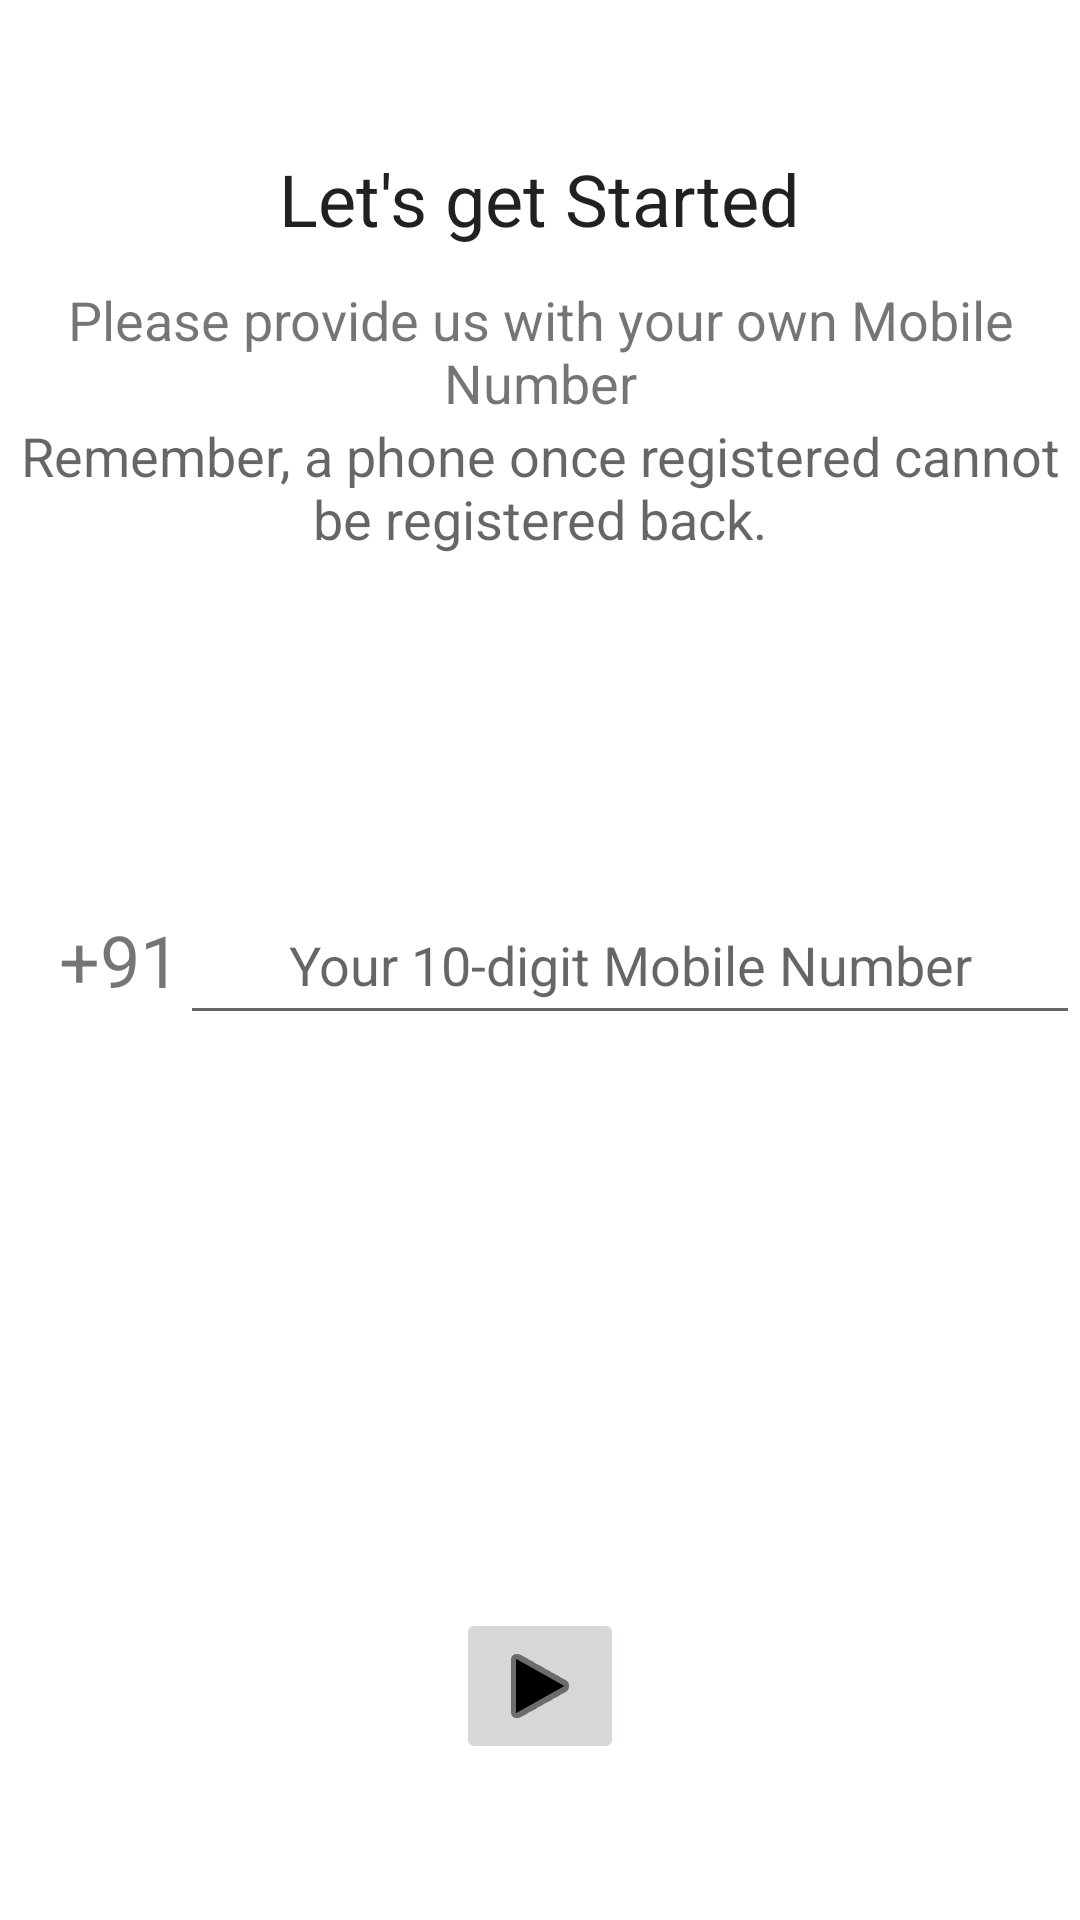

Where to tap for icons on this 1080w x 1920h app screen, as point (x, y):
play: point (540, 1686)
